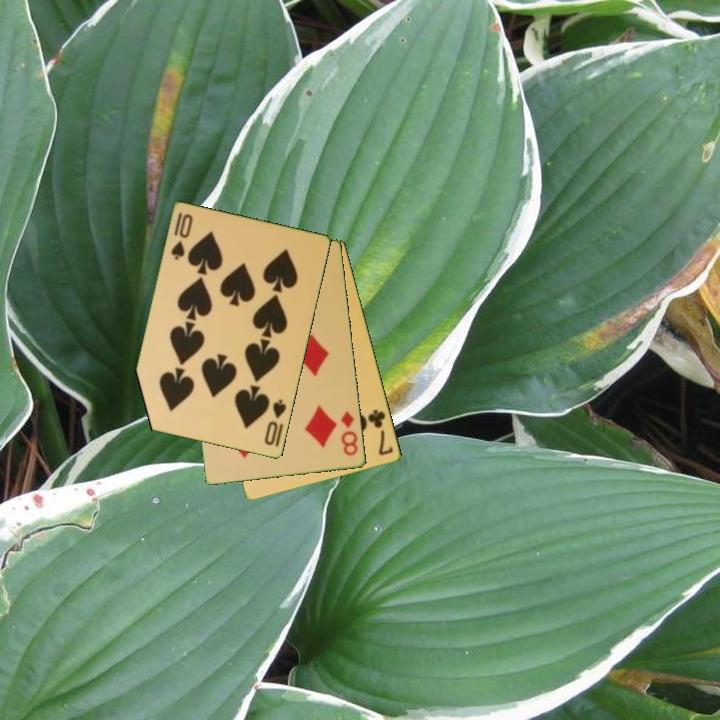10s: (168, 209, 196, 263), (261, 396, 290, 448)
7c: (365, 406, 396, 459)
8d: (338, 408, 361, 459)
